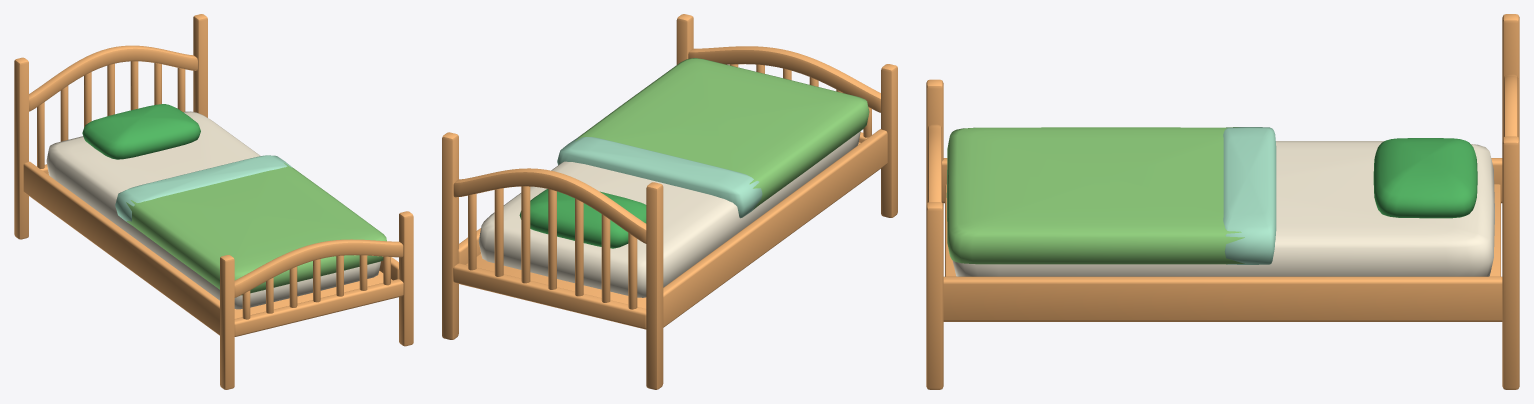
File: cama_solteiro_ripas_arco_laranja.glb
The picture shows the model from 3 angles, left to right: view 1: azimuth 30°, elevation 25°; view 2: azimuth 150°, elevation 25°; view 3: azimuth 270°, elevation 25°; orthographic projection. The views are drawn at different scales.
Visible parts, largest first — view 1: cama_solteiro_ripas_arco_laranja; view 2: cama_solteiro_ripas_arco_laranja; view 3: cama_solteiro_ripas_arco_laranja.
Boxes of the visible parts, <box> form: cama_solteiro_ripas_arco_laranja: <box>14,14,413,389</box>; cama_solteiro_ripas_arco_laranja: <box>442,14,897,389</box>; cama_solteiro_ripas_arco_laranja: <box>926,14,1519,389</box>.
Size of the model in its own units: 1.06 by 0.95 by 2.05.
Materials: 1 (1 with a texture image).
